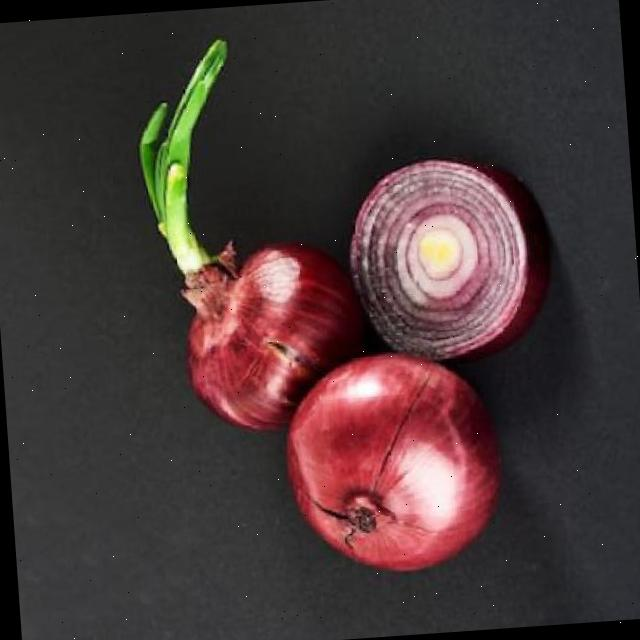Onion: (287, 352, 500, 570), (182, 241, 365, 430)
